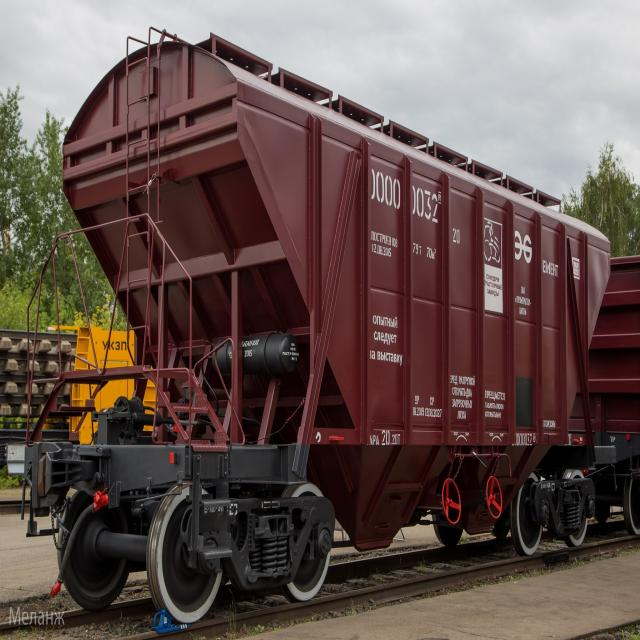hopper: (44, 18, 616, 627)
